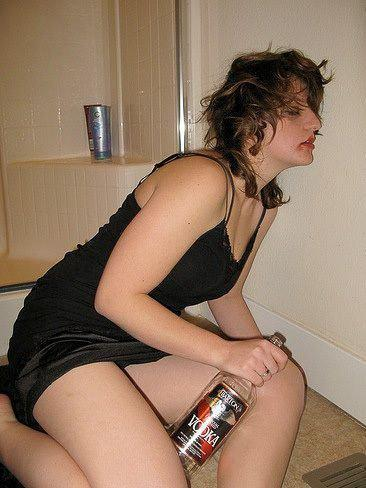Drunk: (267, 76, 326, 168)
